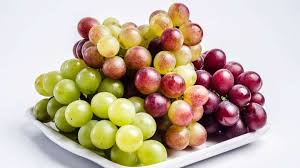Green grapes: (34, 77, 149, 153)
Red Grapes: (91, 21, 205, 116), (200, 53, 268, 138)
